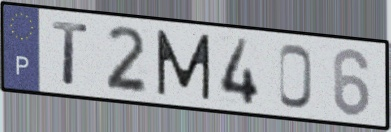0: (277, 43, 314, 110)
2: (104, 25, 150, 96)
4: (216, 35, 261, 108)
6: (330, 46, 372, 119)
M: (154, 27, 213, 102)
T: (50, 18, 91, 88)
